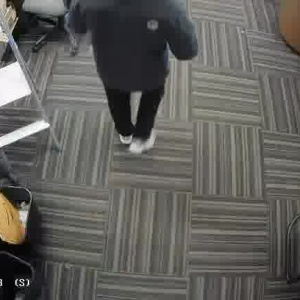person: (81, 2, 182, 159)
